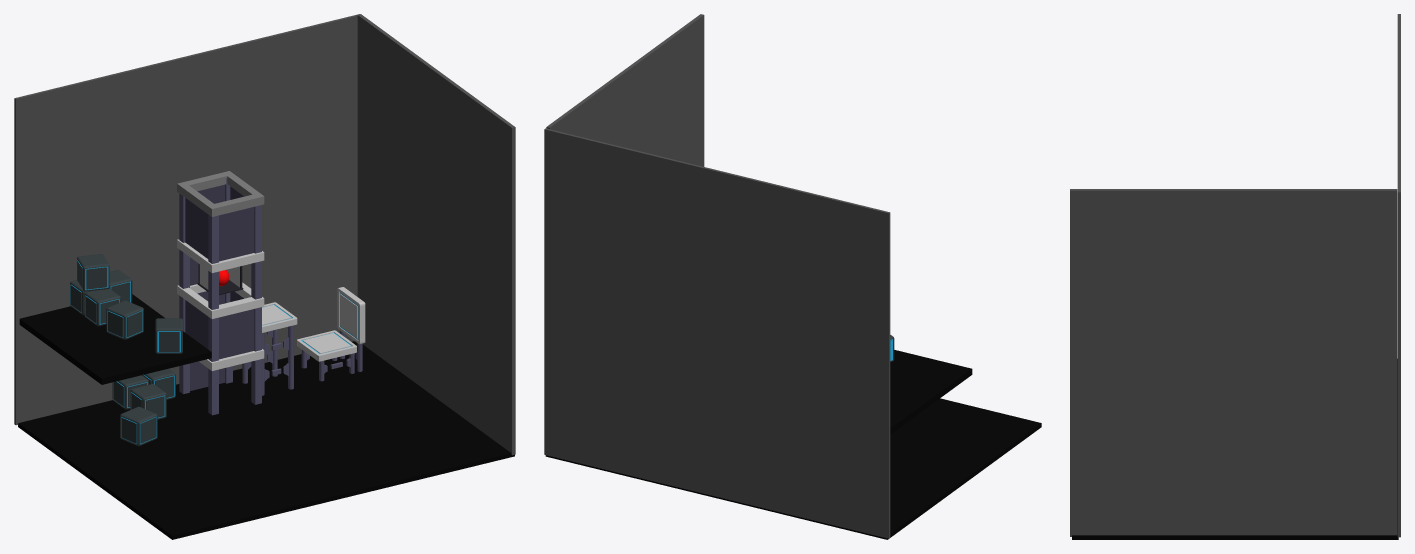
The model's file is BallBounceTexture.obj.
The picture shows the model from 3 angles, left to right: view 1: azimuth 30°, elevation 25°; view 2: azimuth 150°, elevation 25°; view 3: azimuth 270°, elevation 25°; orthographic projection. The views are drawn at different scales.
Visible parts, largest first — view 1: Wall3, Wall4, Floor, StorageCube1 StorageCube2 StorageCube3 StorageCube4 StorageCube5, pCube23, Wall1 Wall5 Wall6 Wall7 Wall8 Wall9, ElevatorSupport1 ElevatorSupport2 ElevatorSupport3 ElevatorSuppo, WallPost1 WallPost2 WallPost3, WallPost8, group2 group1 Platform4, Wall, Platform3 group2 group1 (+2 smaller); view 2: Wall3, Wall4, Floor, pCube23; view 3: Wall4, Wall3, Floor.
Boxes of the visible parts, x1,y1,x2,y2 form: Wall3: [14, 14, 359, 425]; Wall4: [357, 14, 515, 455]; Floor: [18, 341, 514, 539]; StorageCube1 StorageCube2 StorageCube3 StorageCube4 StorageCube5: [70, 254, 182, 446]; pCube23: [19, 294, 211, 384]; Wall1 Wall5 Wall6 Wall7 Wall8 Wall9: [185, 186, 254, 359]; ElevatorSupport1 ElevatorSupport2 ElevatorSupport3 ElevatorSuppo: [177, 171, 264, 370]; WallPost1 WallPost2 WallPost3: [179, 178, 232, 415]; WallPost8: [251, 205, 261, 404]; group2 group1 Platform4: [337, 287, 365, 344]; Wall: [190, 184, 224, 390]; Platform3 group2 group1: [297, 330, 356, 361]; Wall3: [544, 128, 890, 538]; Wall4: [546, 14, 704, 166]; Floor: [545, 398, 1041, 539]; pCube23: [890, 350, 972, 434]; Wall4: [1070, 189, 1397, 536]; Wall3: [1397, 14, 1400, 537]; Floor: [1072, 359, 1398, 539].
Size of the model in its own units: 436 by 398 by 342.
